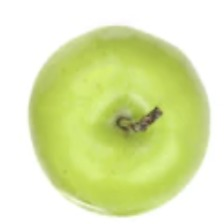apple: (26, 26, 216, 224)
